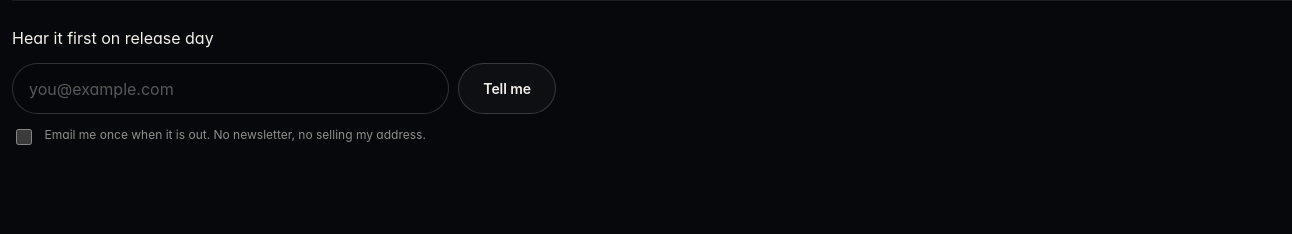
Test: release alert form › offers a direct email when the signup fails
The image size is (1292, 234).
Type "fan@example.com" into the field named "Email address" at point(230, 89), box [12,63,449,114]
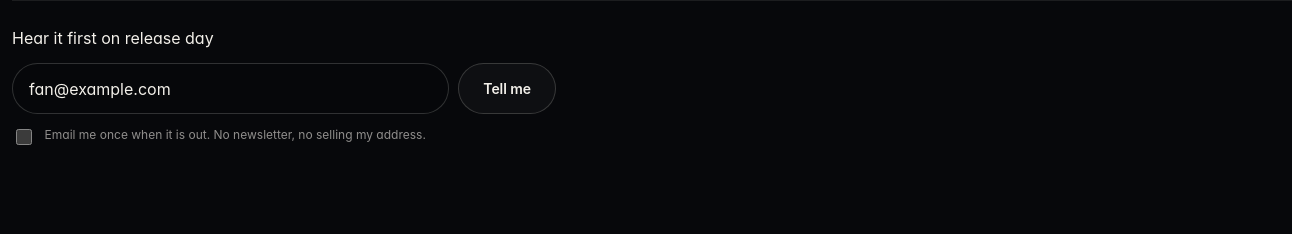
Click the checkbox at point(24, 136), box [16,128,32,144]
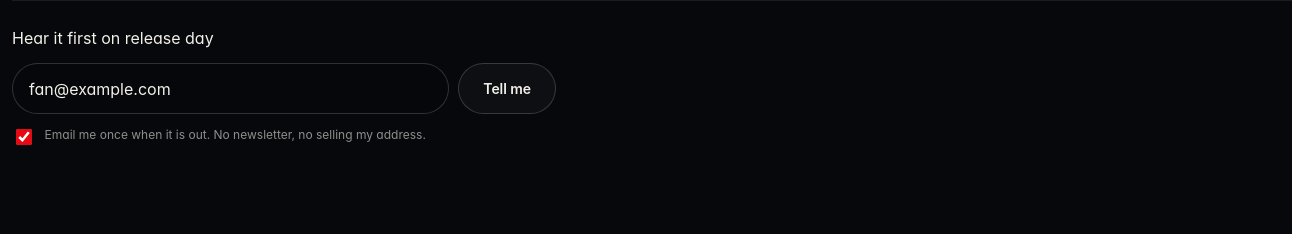
Click the button "Tell me" at point(507, 89), box [458,63,556,114]
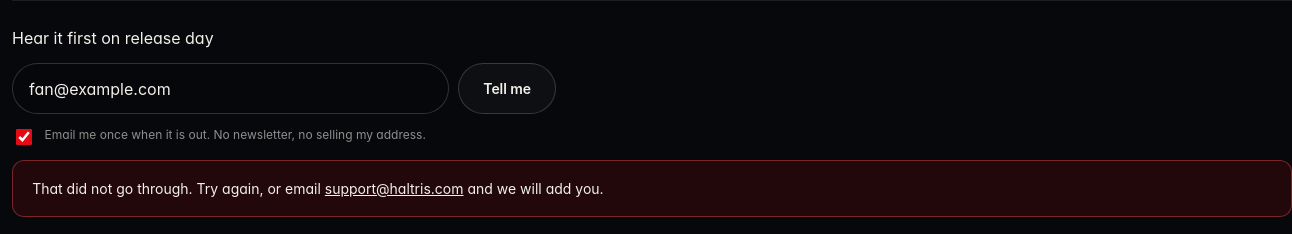
expect the message shows "support@haltris.com": met, box [325,180,464,196]
